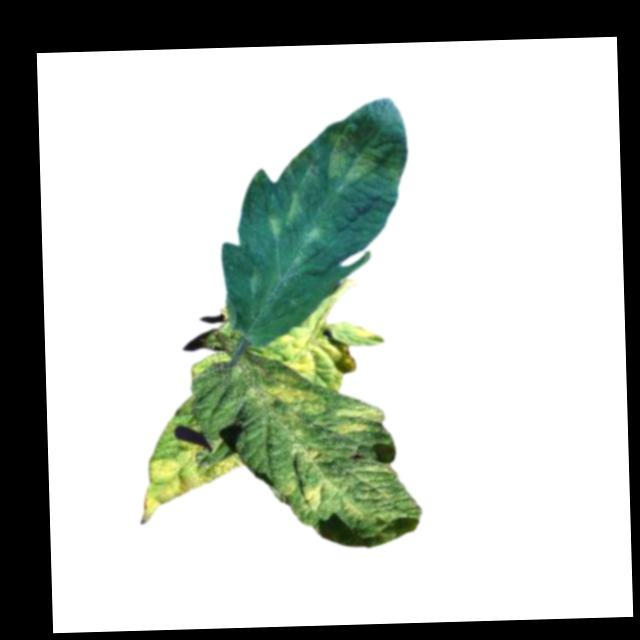Leaf_Mold: (137, 443, 246, 525), (278, 322, 386, 379), (325, 117, 393, 190), (247, 380, 323, 418), (294, 473, 346, 515), (265, 188, 303, 240), (333, 404, 386, 440), (285, 441, 325, 468)
